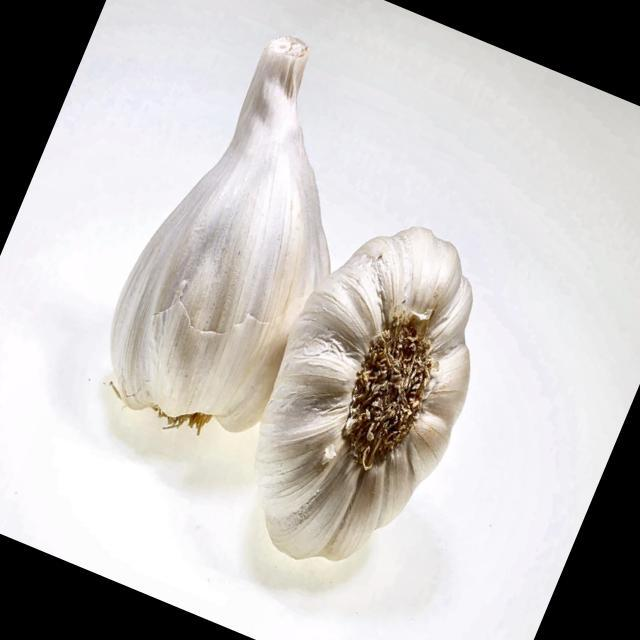garlic: (112, 36, 472, 559), (112, 38, 330, 431)
